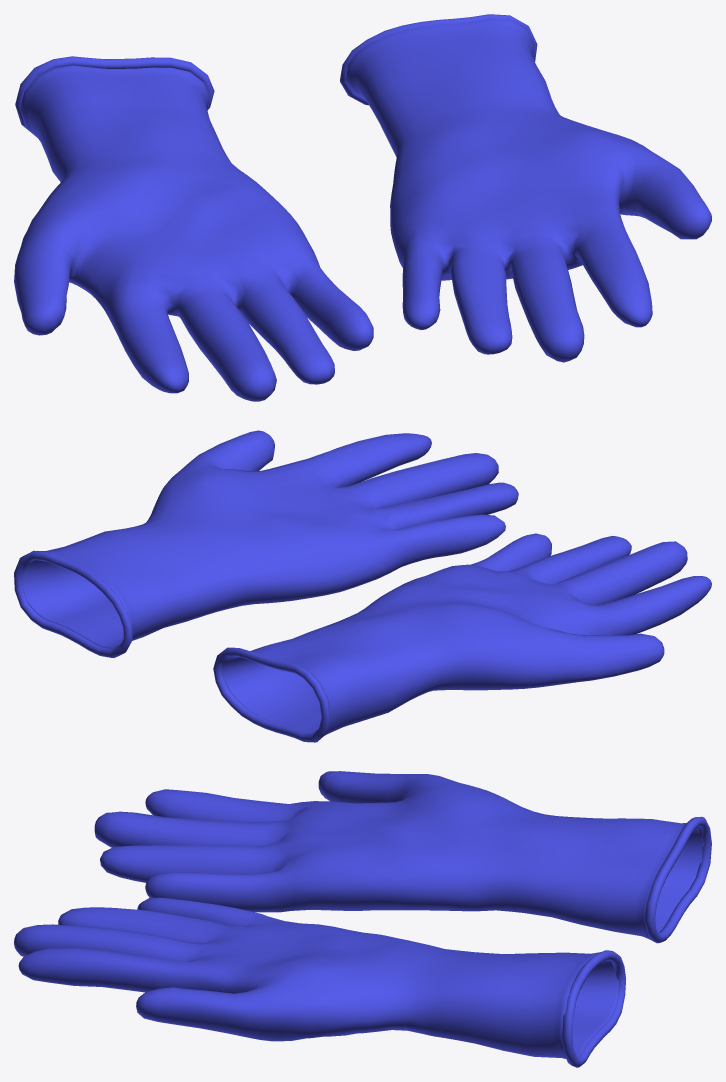
File: gloves.fbx
3 views of the same model, one above another, from view 1: azimuth 30°, elevation 25°; view 2: azimuth 150°, elevation 25°; view 3: azimuth 270°, elevation 25° (orthographic). The views are drawn at different scales.
Parts seen in each view (by area): view 1: Glove1; view 2: Glove1; view 3: Glove1.
Part boxes in pixels (box(x1,y1,x2,y2)): Glove1: box(14, 14, 711, 401); Glove1: box(14, 430, 711, 742); Glove1: box(14, 771, 711, 1067).
Size of the model in its own units: 5.36 by 0.7748 by 5.49.
